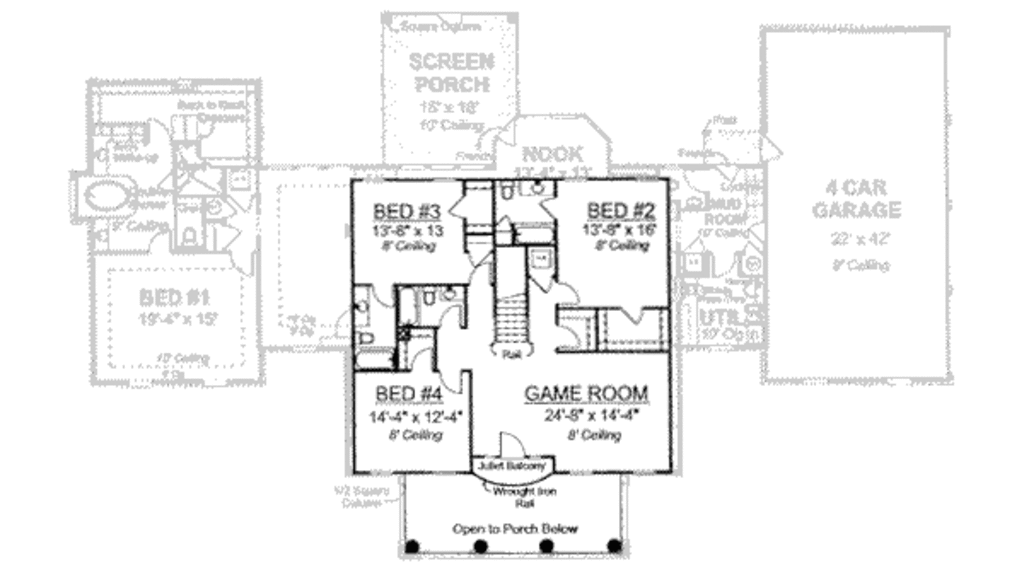door: (369, 278, 400, 308), (555, 322, 581, 356), (554, 281, 580, 311), (497, 431, 525, 457), (615, 305, 648, 327), (445, 194, 467, 225), (436, 304, 464, 328), (435, 370, 461, 395), (410, 345, 431, 374)
large_sink: (496, 179, 519, 208), (351, 326, 375, 345)
stairs: (487, 244, 535, 361)
tub: (350, 347, 398, 372), (513, 220, 560, 245), (395, 289, 421, 331)
